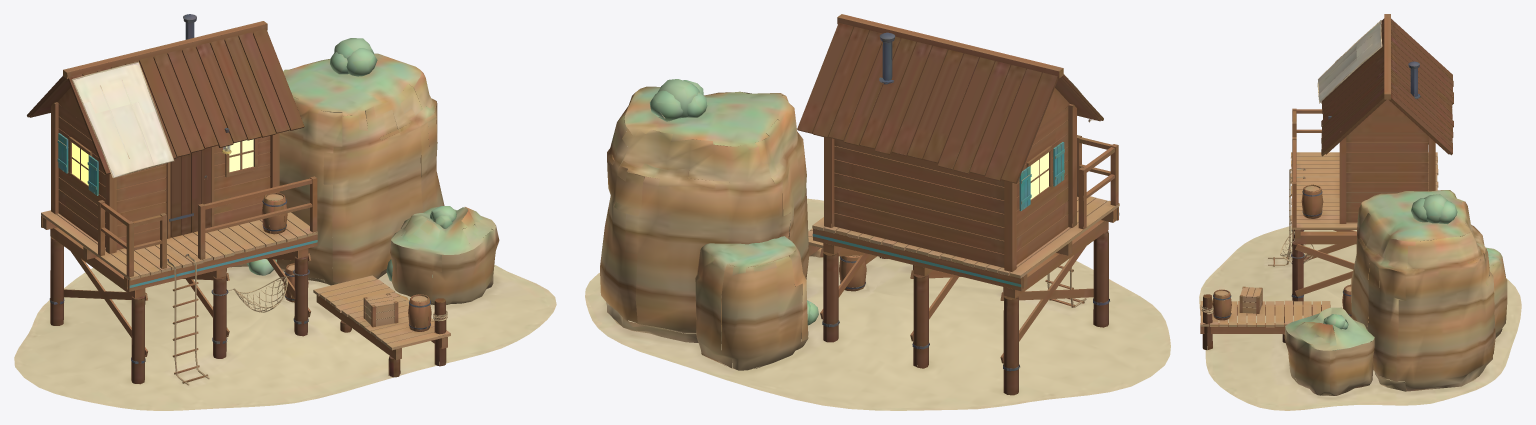
File: guarida_pirata.glb
3 views of the same model, side by side, from view 1: azimuth 30°, elevation 25°; view 2: azimuth 150°, elevation 25°; view 3: azimuth 270°, elevation 25° (orthographic). The views are drawn at different scales.
Visible parts, largest first — view 1: pirate-hideout_body; view 2: pirate-hideout_body; view 3: pirate-hideout_body.
Boxes of the visible parts, x1,y1,x2,y2 form: pirate-hideout_body: [14, 14, 556, 410]; pirate-hideout_body: [585, 14, 1170, 410]; pirate-hideout_body: [1199, 14, 1521, 410].
Bounding box in the file's own units: 9.48 × 5.42 × 6.68.
Materials: 5 (1 with a texture image).
